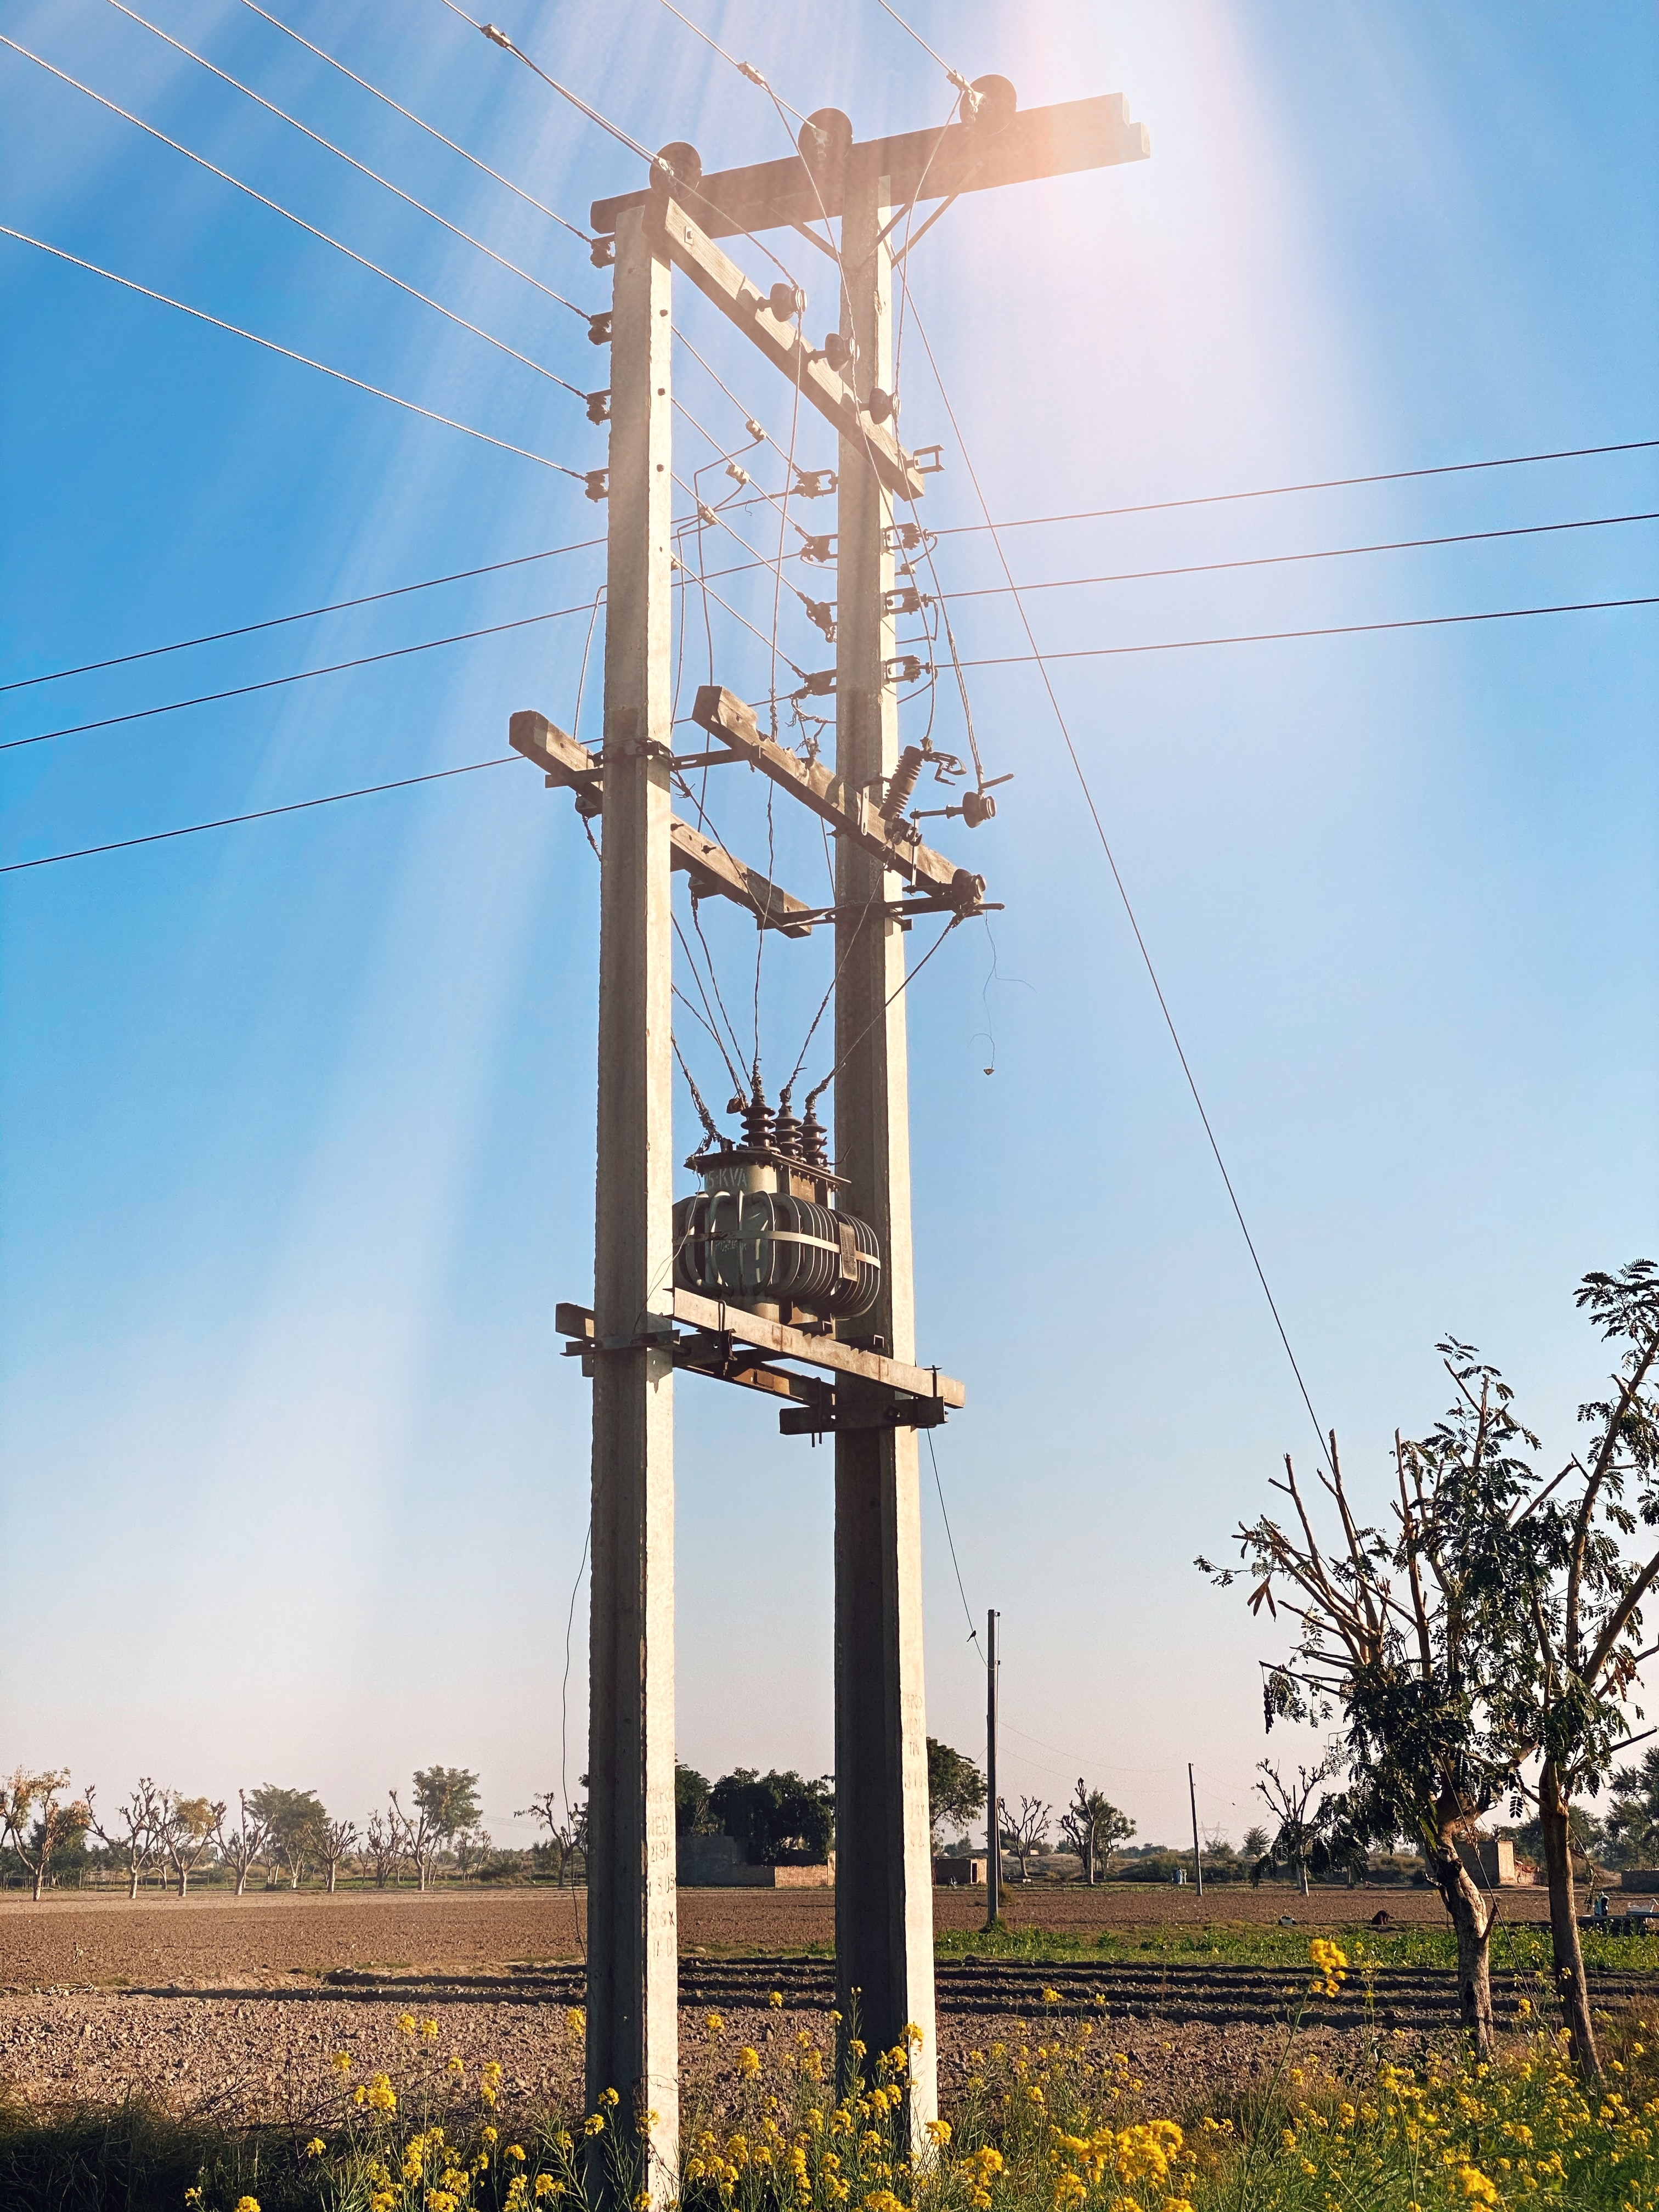utility_pole: (535, 30, 1176, 566)
